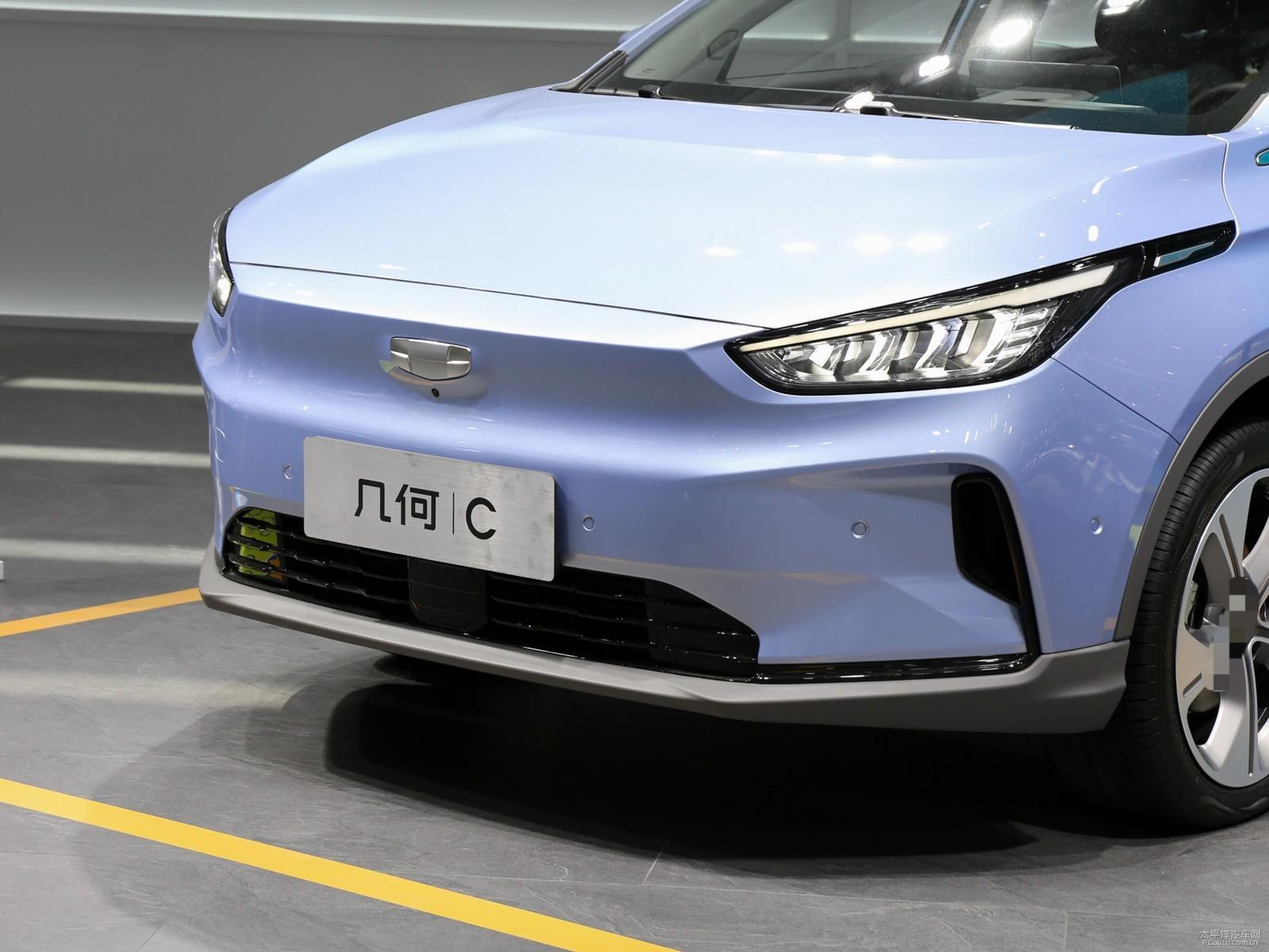GEOMETRY: (391, 338, 470, 378)
